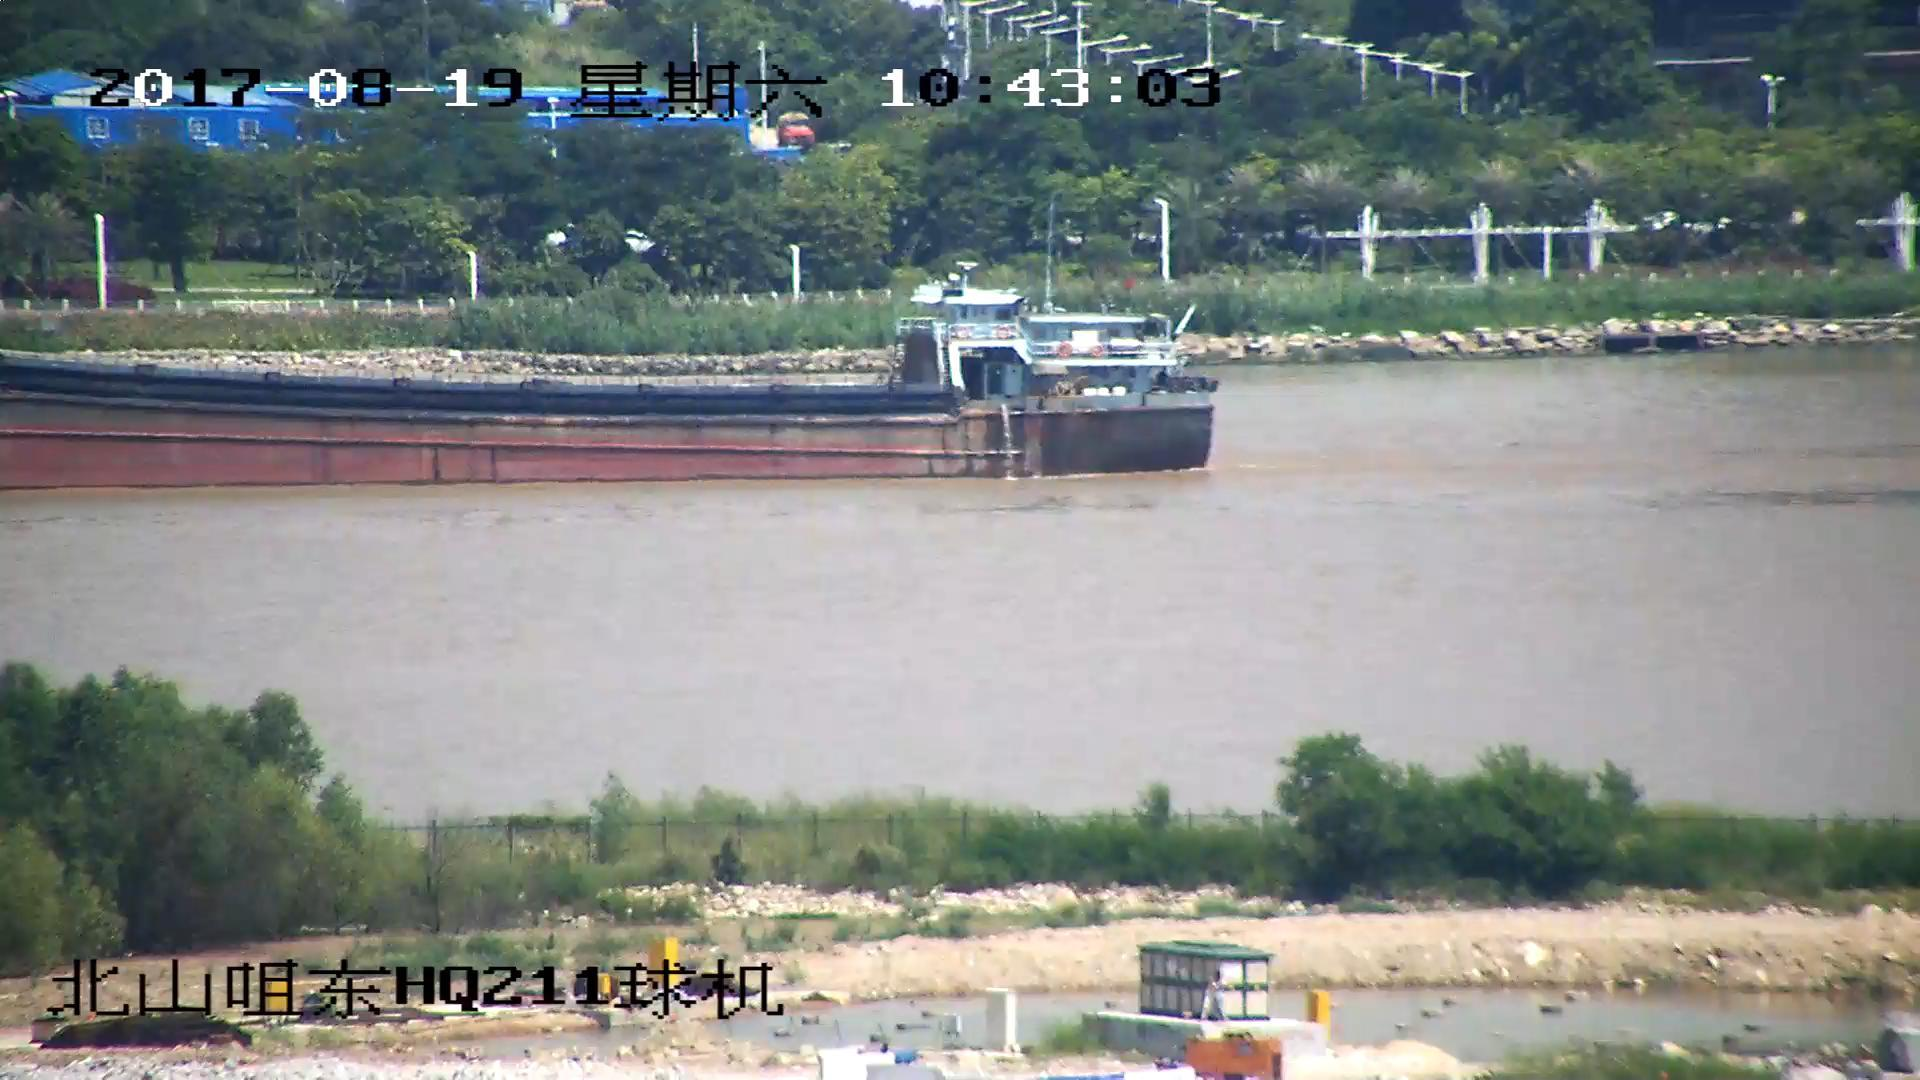Ship: (3, 253, 1217, 487)
